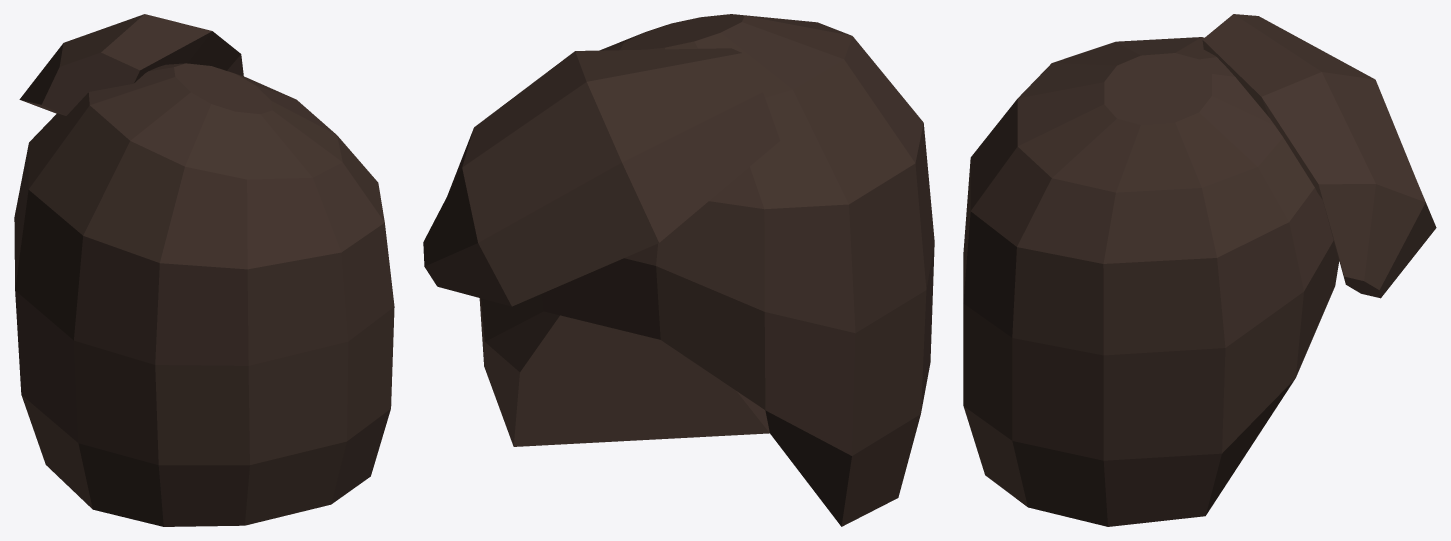
Rendered from lwf_hair_male_default_v1.glb.
3 renders of one model, left to right at view 1: azimuth 30°, elevation 25°; view 2: azimuth 150°, elevation 25°; view 3: azimuth 270°, elevation 25°, orthographic. The views are drawn at different scales.
Visible parts, largest first — view 1: LWF_Hair_Default; view 2: LWF_Hair_Default; view 3: LWF_Hair_Default.
Part boxes in pixels (x1,y1,x2,y2): LWF_Hair_Default: [14, 14, 394, 526]; LWF_Hair_Default: [423, 14, 934, 526]; LWF_Hair_Default: [963, 14, 1436, 526].
Bounding box in the file's own units: 0.2218 × 0.2675 × 0.2795.
1 material, 1 textured.
